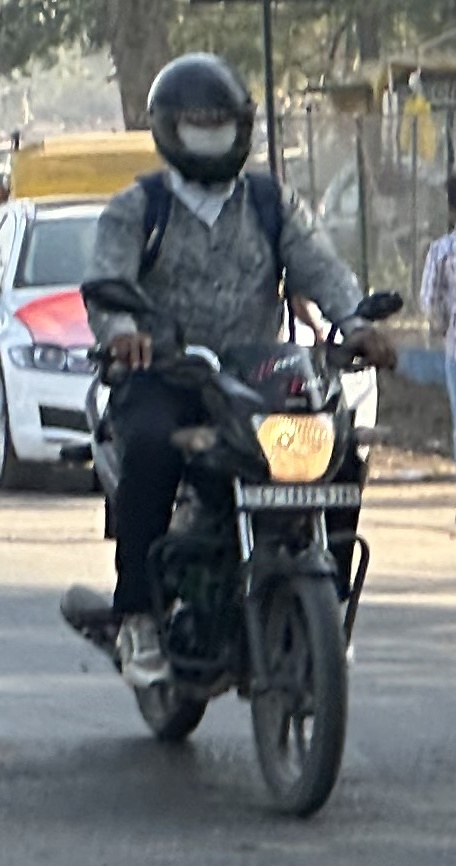BikeWithRider: (49, 40, 413, 829)
Helmet: (135, 43, 267, 191)
